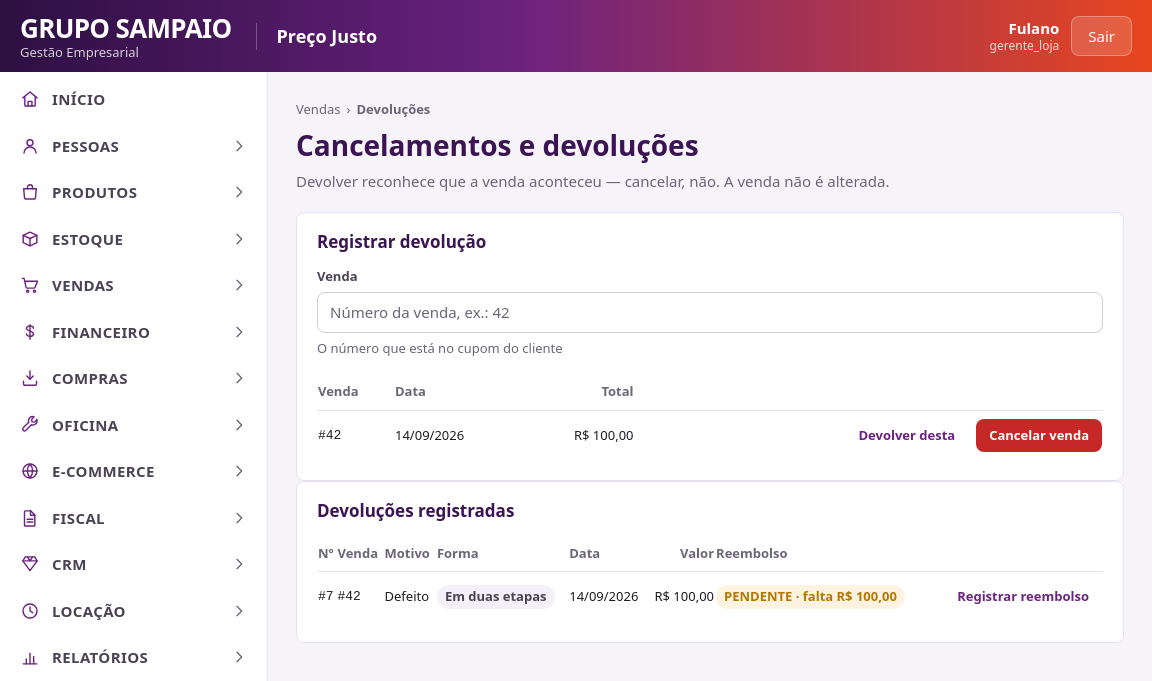
it: REGISTRAR DEVOLUÇÃO AO CLIENTE › meio diferente do original pede justificativa; o cartão diz para estornar na maquininha
Expected: the cell with test id "reembolso-da-devolucao-7" shows "PENDENTE", [724,587,792,605]
Click the button "Registrar reembolso" at (1023, 597), box [944,580,1102,614]
(page scrolled)
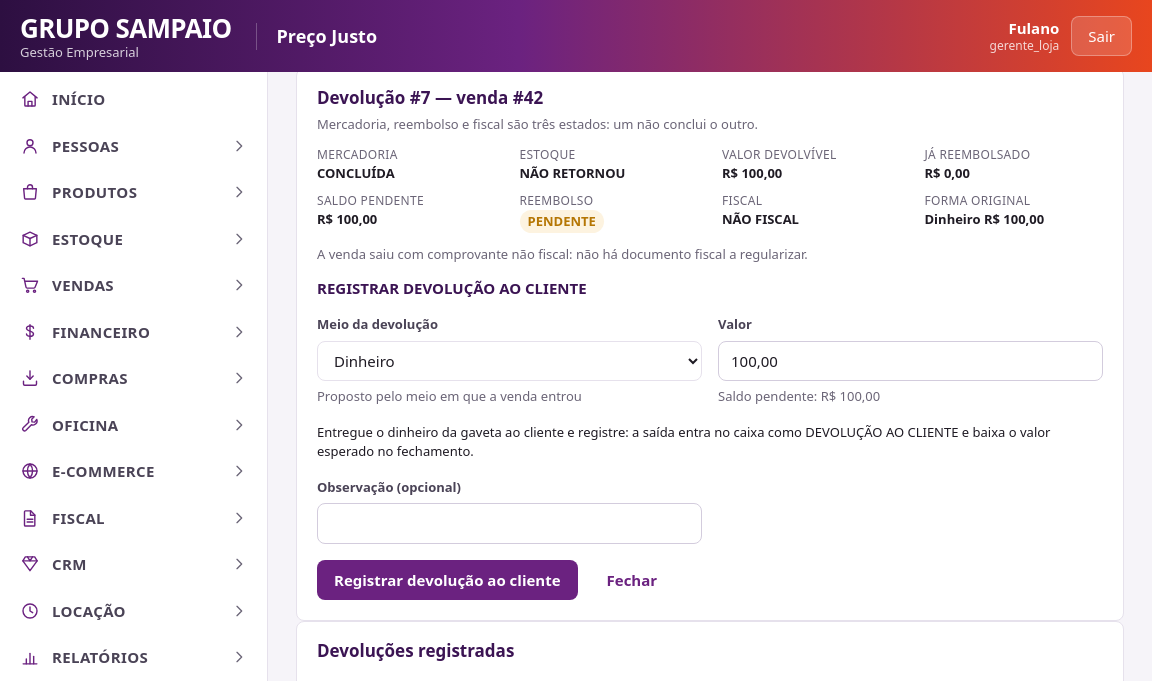
Expected: the field labelled "Justificativa" is not shown
Select "Estorno no crédito" in the dropdown labelled "Meio da devolução" at (510, 360), box [317,340,702,380]
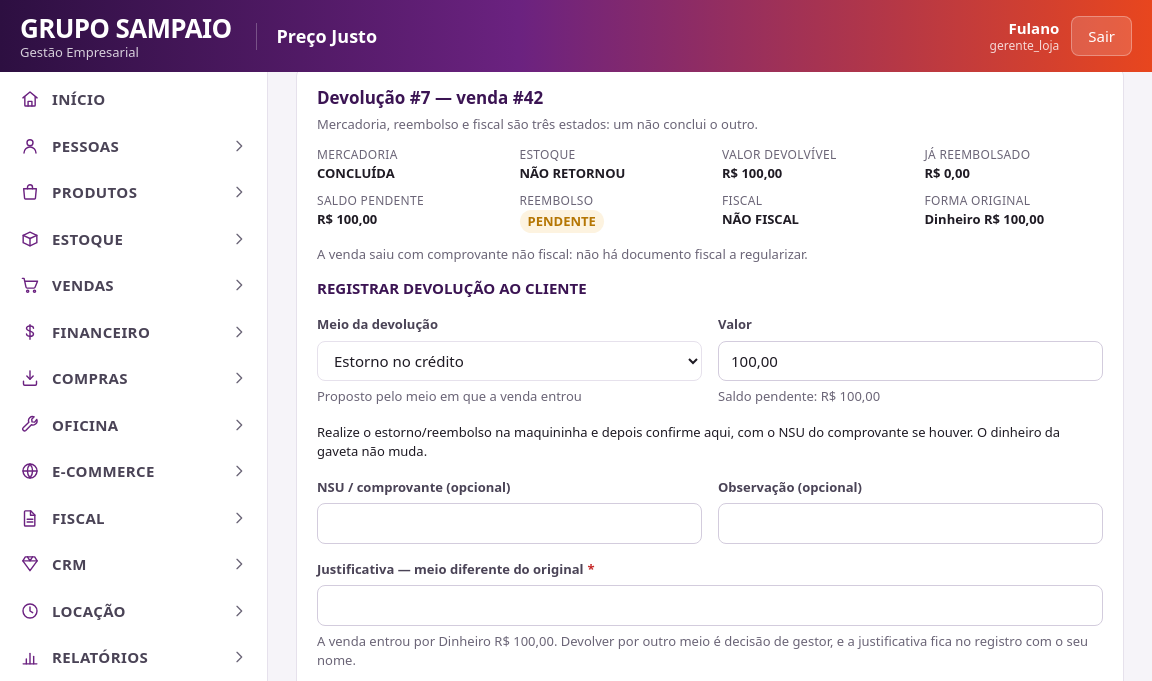
Result: the text with test id "instrucao-do-meio" shows "Realize o estorno/reembolso na maquininha" at [317,422,1060,460]
Result: the field labelled "Justificativa — meio diferente do original*" is shown at [317,585,1103,626]
